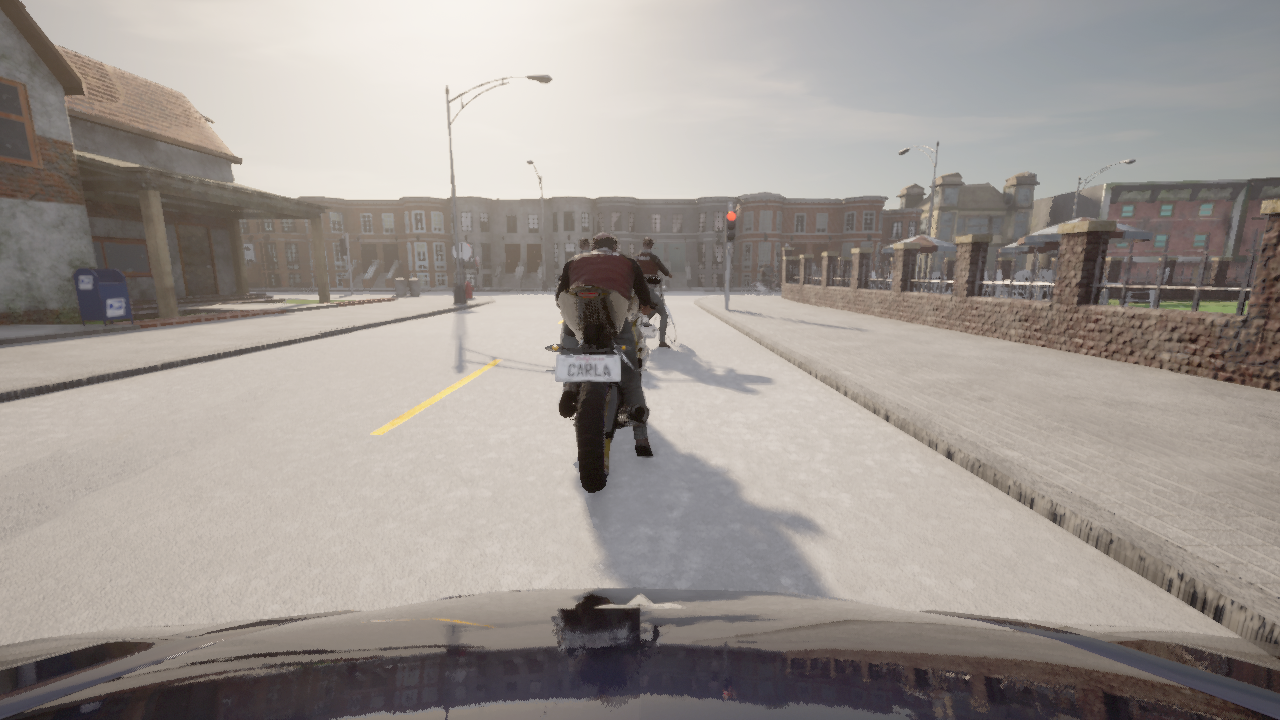cyclist: (0, 588, 1279, 719), (544, 274, 662, 491), (637, 276, 676, 342), (752, 279, 780, 294)
pedestrian: (766, 263, 774, 282), (408, 274, 413, 293), (772, 277, 776, 288)
